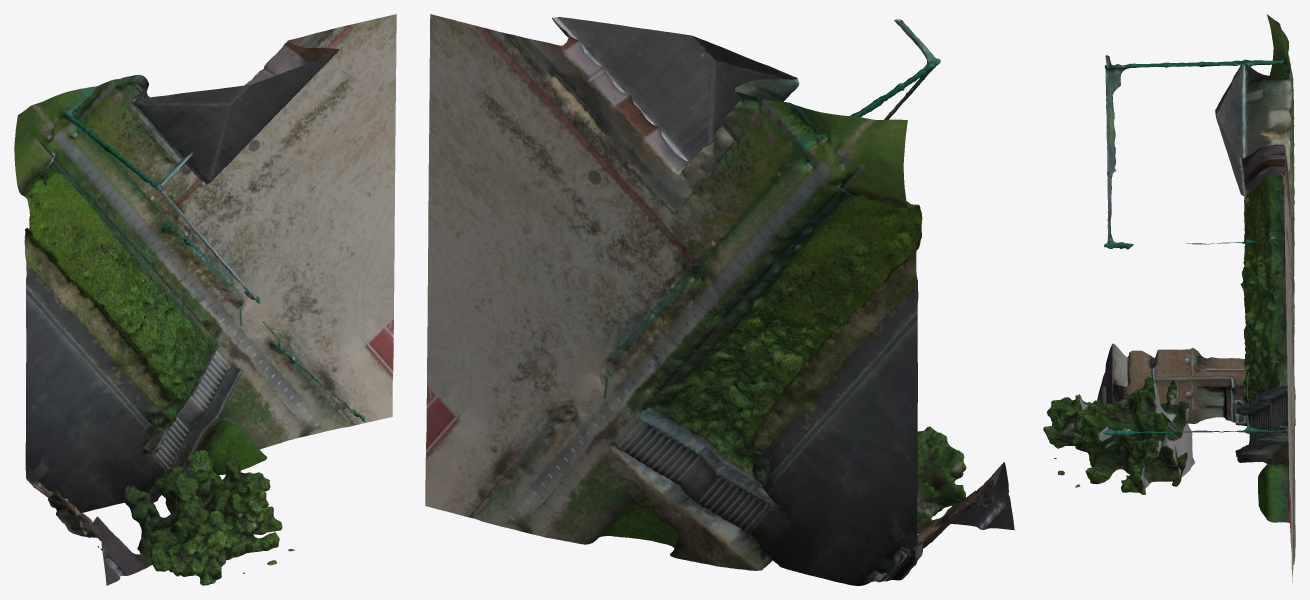
Rendered from Tile_+016_+013.fbx.
3 renders of one model, left to right at view 1: azimuth 30°, elevation 25°; view 2: azimuth 150°, elevation 25°; view 3: azimuth 270°, elevation 25°, orthographic. The views are drawn at different scales.
Visible parts, largest first — view 1: DefaultName; view 2: DefaultName; view 3: DefaultName.
Part boxes in pixels (x1,y1,x2,y2): DefaultName: [14, 14, 396, 585]; DefaultName: [425, 14, 1014, 585]; DefaultName: [1043, 14, 1295, 583].
Bounding box in the file's own units: 22.54 × 22.54 × 13.23.
